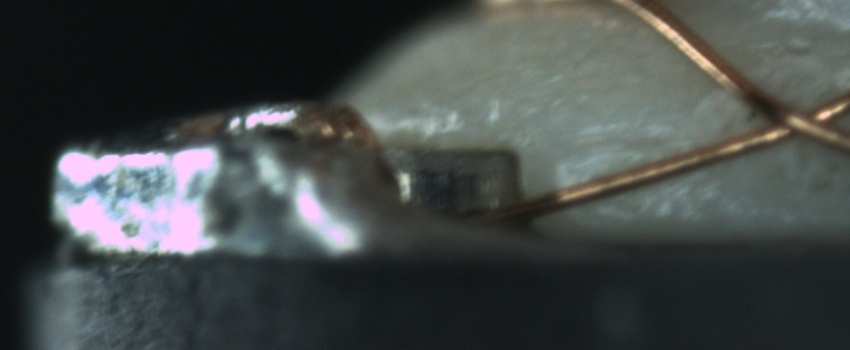CL: (727, 71, 850, 159)
DL: (555, 127, 695, 172)
TE: (176, 103, 392, 152)
